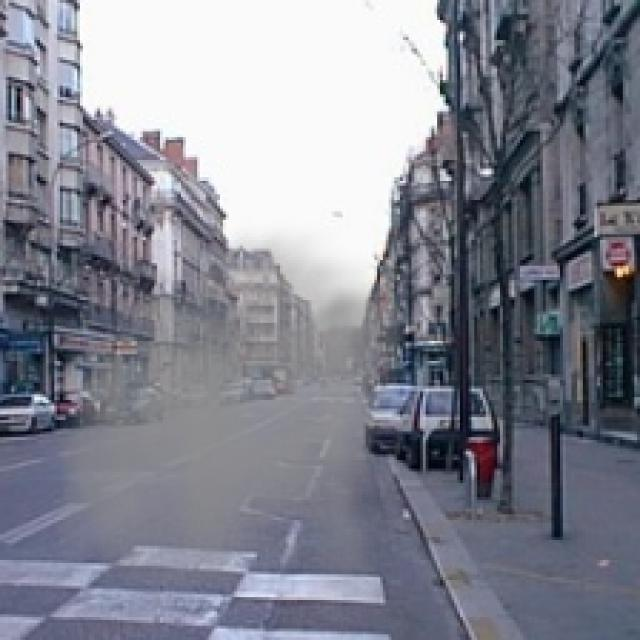Smoke: (54, 217, 409, 586)
